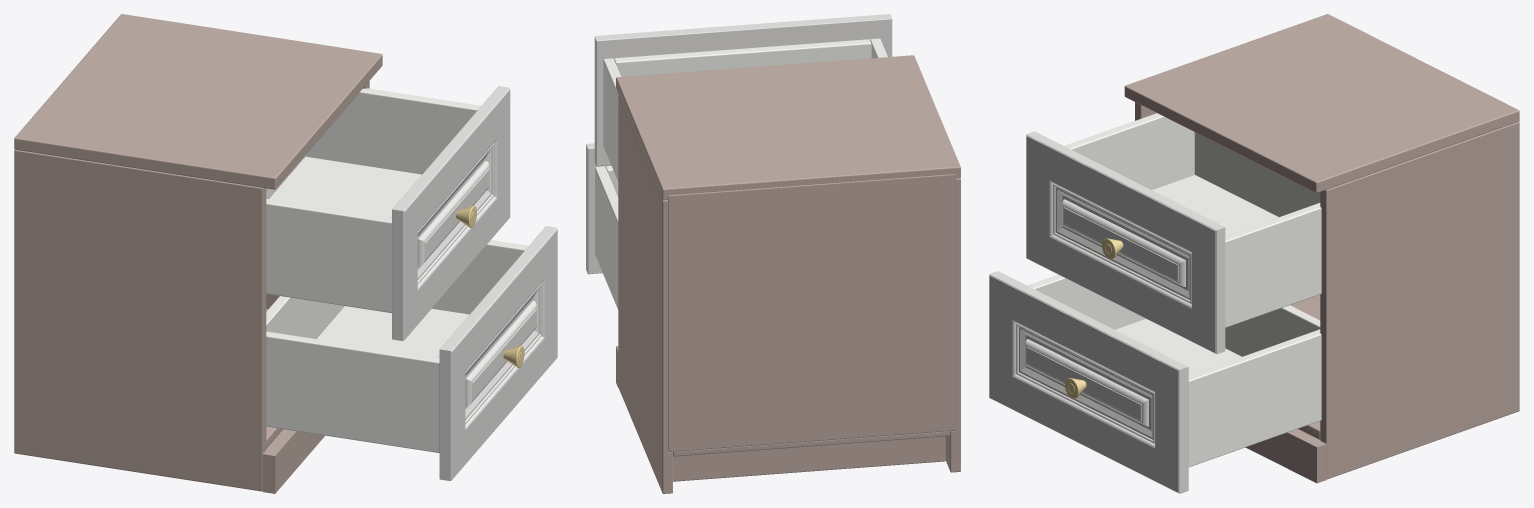
The model's file is newtumba1.fbx.
3 renders of one model, left to right at view 1: azimuth 30°, elevation 25°; view 2: azimuth 150°, elevation 25°; view 3: azimuth 270°, elevation 25°, orthographic. The views are drawn at different scales.
Parts seen in each view (by area): view 1: VIFS024, VIFS023, Rectangle002, Rectangle001, VIFS053, VIFS022, VIFS020, VIFS021, VIFS052, VIFS051, VIFS050, VIFS028; view 2: VIFS030, VIFS023, VIFS029, Rectangle001, VIFS026, VIFS018, VIFS051, VIFS024, VIFS020, VIFS025, Rectangle002; view 3: VIFS029, VIFS023, Rectangle002, Rectangle001, VIFS051, VIFS020, VIFS022, VIFS019, VIFS021, VIFS050, VIFS052, VIFS028 (+2 smaller).
Boxes of the visible parts, x1,y1,x2,y2 form: VIFS024: (14,149,266,491); VIFS023: (14,14,382,189); Rectangle002: (439,226,557,480); Rectangle001: (392,86,510,340); VIFS053: (266,331,439,452); VIFS022: (266,199,391,313); VIFS020: (305,88,480,174); VIFS021: (269,156,421,217); VIFS052: (317,306,469,357); VIFS051: (432,240,528,314); VIFS050: (266,296,344,338); VIFS028: (262,429,324,493); VIFS030: (668,174,955,451); VIFS023: (616,55,960,200); VIFS029: (618,95,672,493); Rectangle001: (594,14,892,166); VIFS026: (673,436,945,481); VIFS018: (614,39,871,76); VIFS051: (595,166,618,309); VIFS024: (945,178,960,472); VIFS020: (603,58,620,181); VIFS025: (673,431,950,456); Rectangle002: (586,143,610,274); VIFS029: (1320,121,1519,479); VIFS023: (1124,14,1519,193); Rectangle002: (989,271,1188,493); Rectangle001: (1026,131,1225,354); VIFS051: (1188,329,1321,467); VIFS020: (1225,203,1321,327); VIFS022: (1064,113,1194,189); VIFS019: (1194,132,1320,216); VIFS021: (1152,175,1278,235); VIFS050: (1225,305,1320,356); VIFS052: (1115,319,1241,375); VIFS028: (1245,429,1326,483).
Size of the model in its own units: 77.09 by 50 by 79.8.
